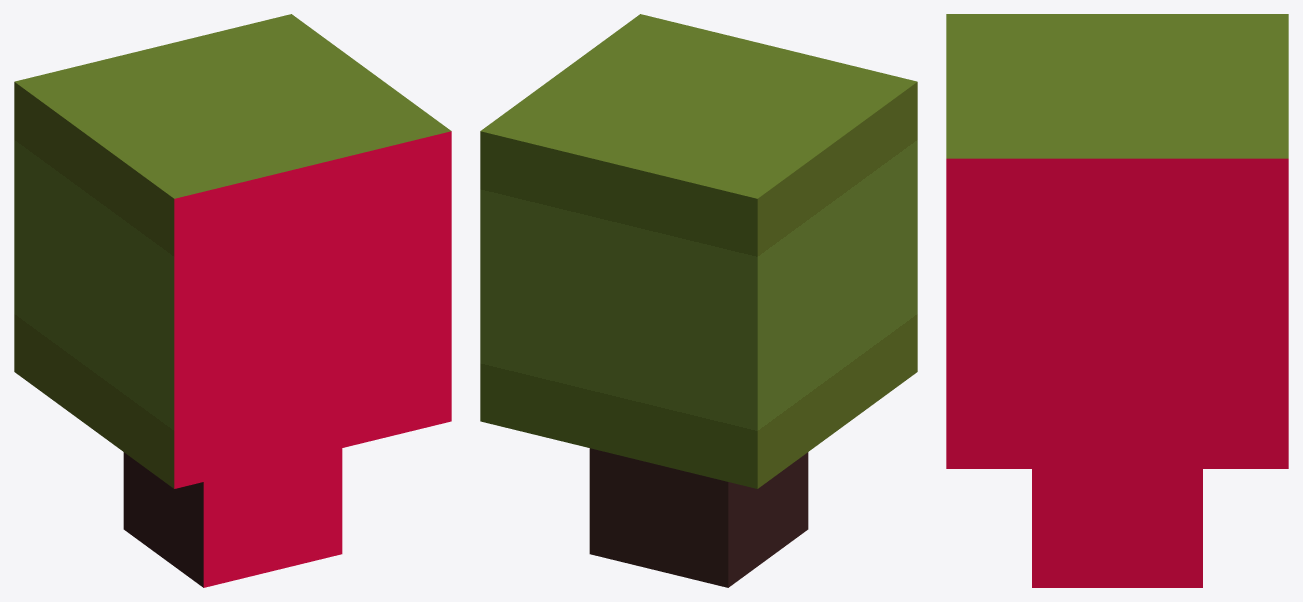
Rendered from tree_1.gltf.
3 views of the same model, side by side, from view 1: azimuth 30°, elevation 25°; view 2: azimuth 150°, elevation 25°; view 3: azimuth 270°, elevation 25° (orthographic). The views are drawn at different scales.
Parts seen in each view (by area): view 1: mesh; view 2: mesh; view 3: mesh.
Boxes of the visible parts, box(x1,y1,x2,y2) form: mesh: box(14, 14, 451, 587); mesh: box(480, 14, 917, 587); mesh: box(946, 14, 1288, 587).
Bounding box in the file's own units: 0.75 × 1.12 × 0.75.
1 material, 1 textured.
